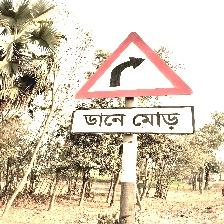Right-turn: (70, 33, 196, 135)
